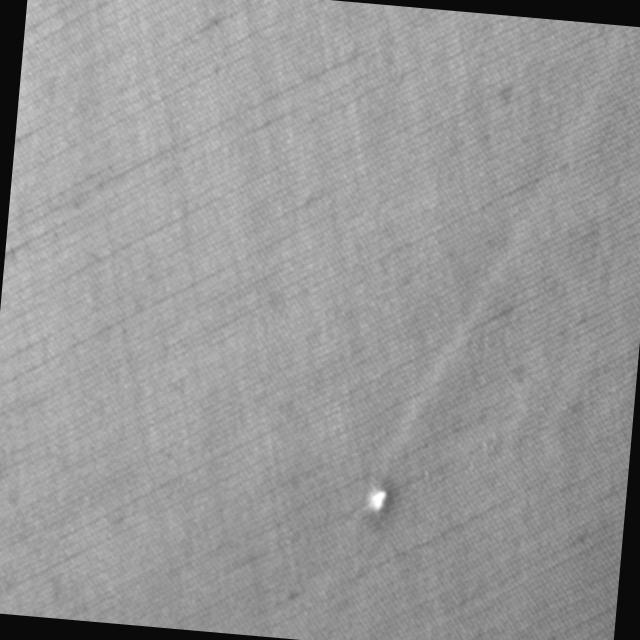hole: (362, 481, 390, 518)
